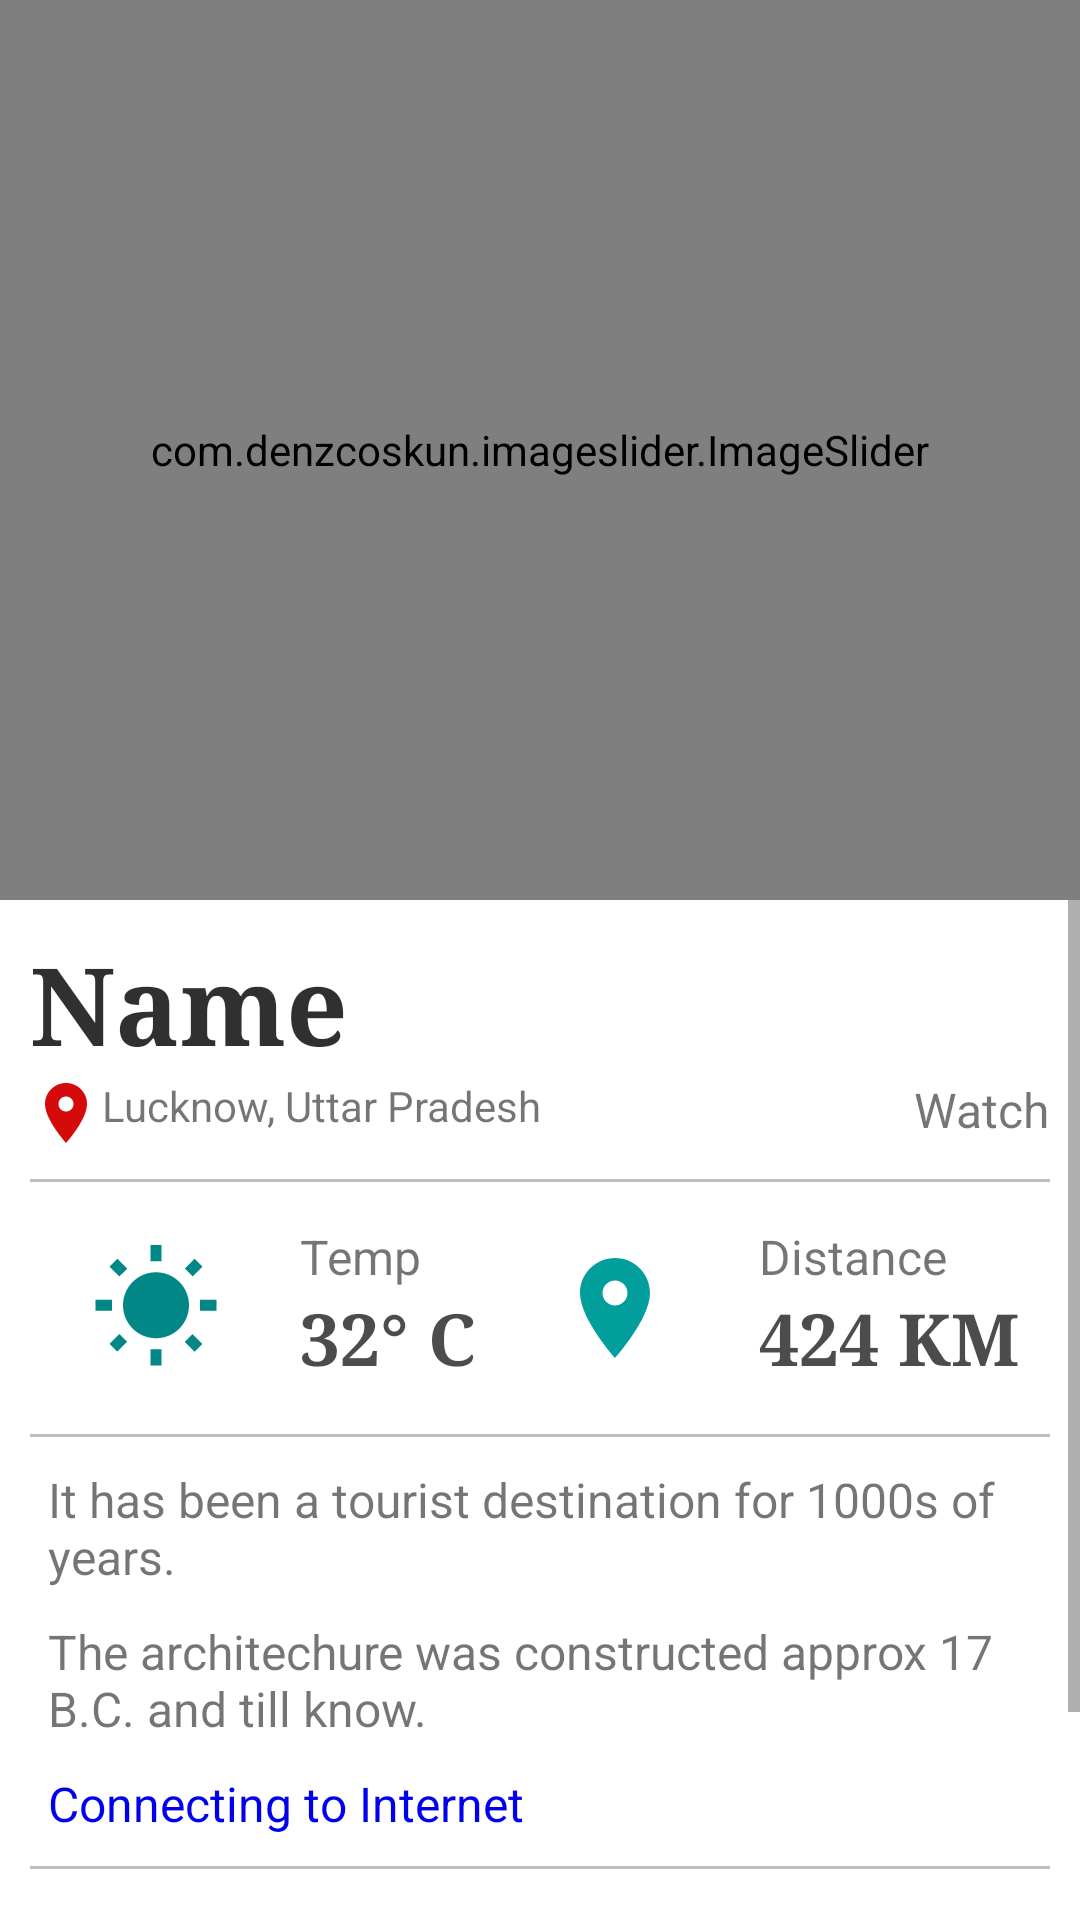

Screen size 1080px x 1920px. Icon name, then its box in pixels as (x1, y1, x2, y2):
location: (580, 1258, 650, 1358)
sunny: (95, 1245, 217, 1366)
